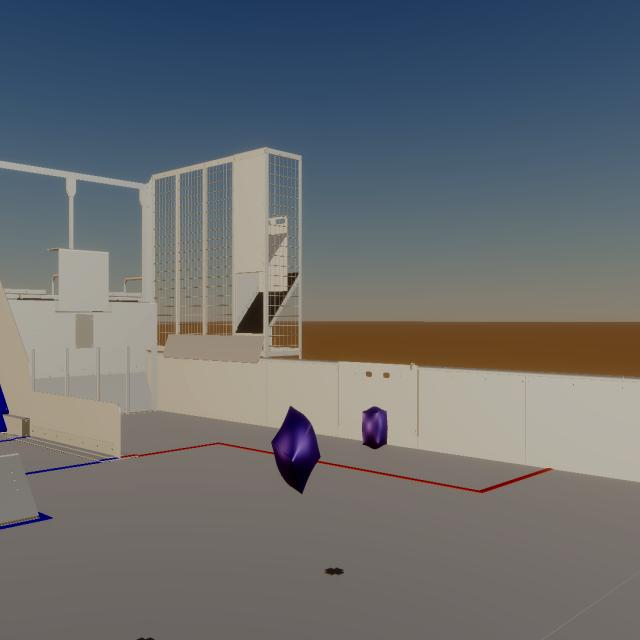frc_cube: (271, 406, 321, 494), (362, 407, 388, 449)
